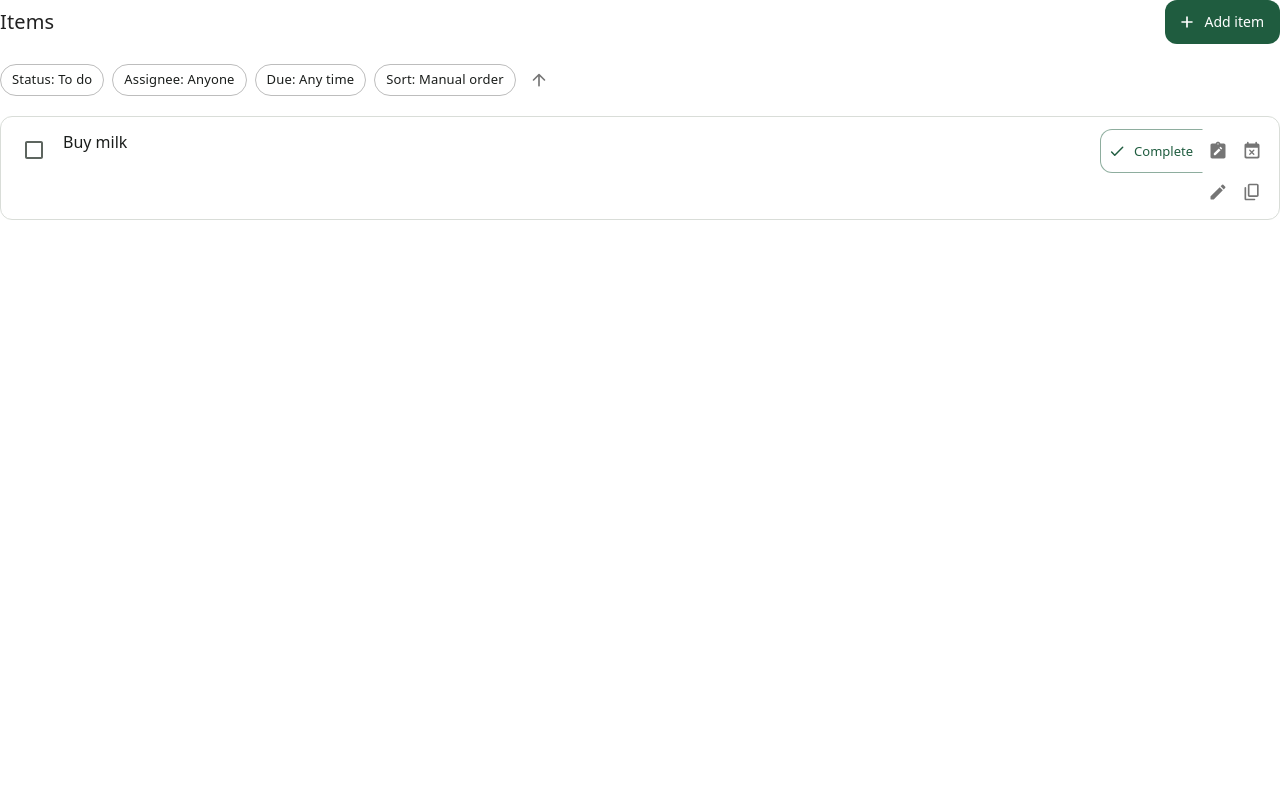
Test: ItemsSection › opens the whole form when editing, because the values are already there
Click the button named "Edit Buy milk" at (1218, 192), box [1203,177,1233,207]
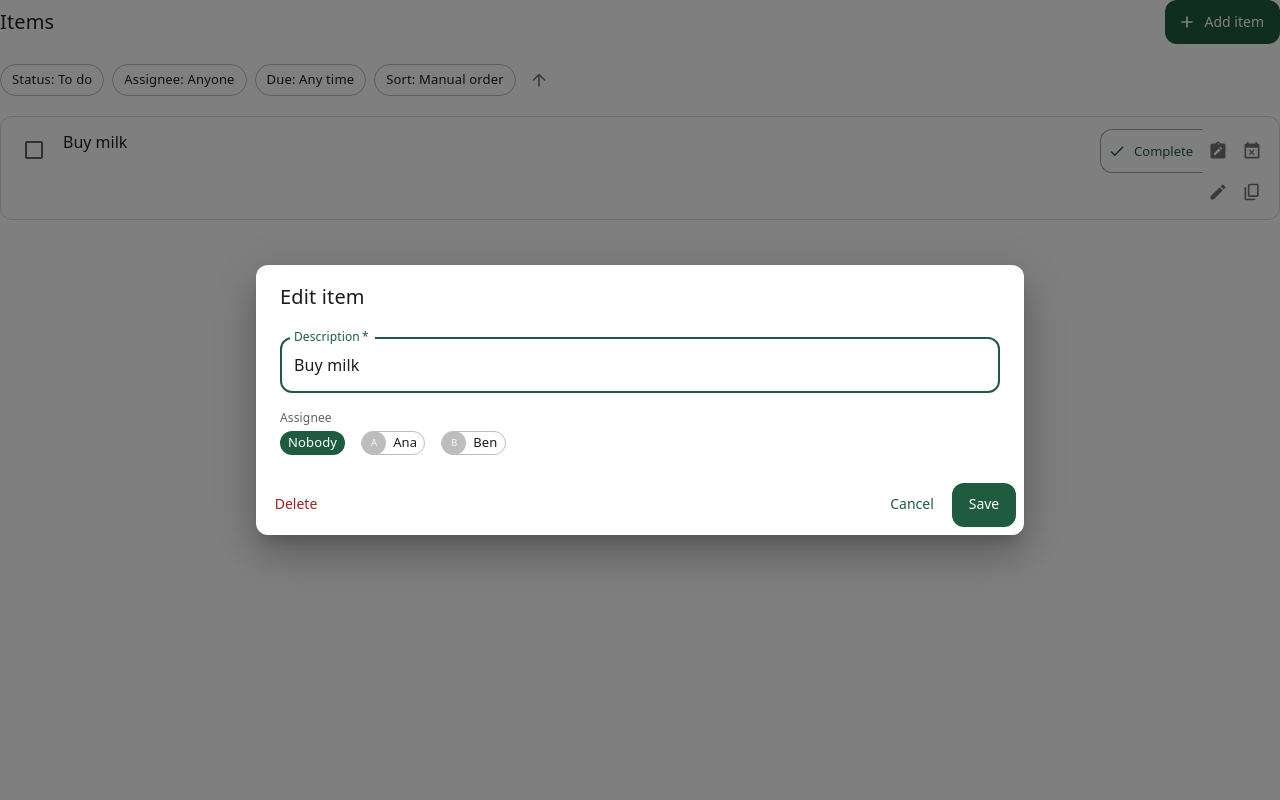
expect the button "A Ana" is shown: met, box [361,431,425,455]
